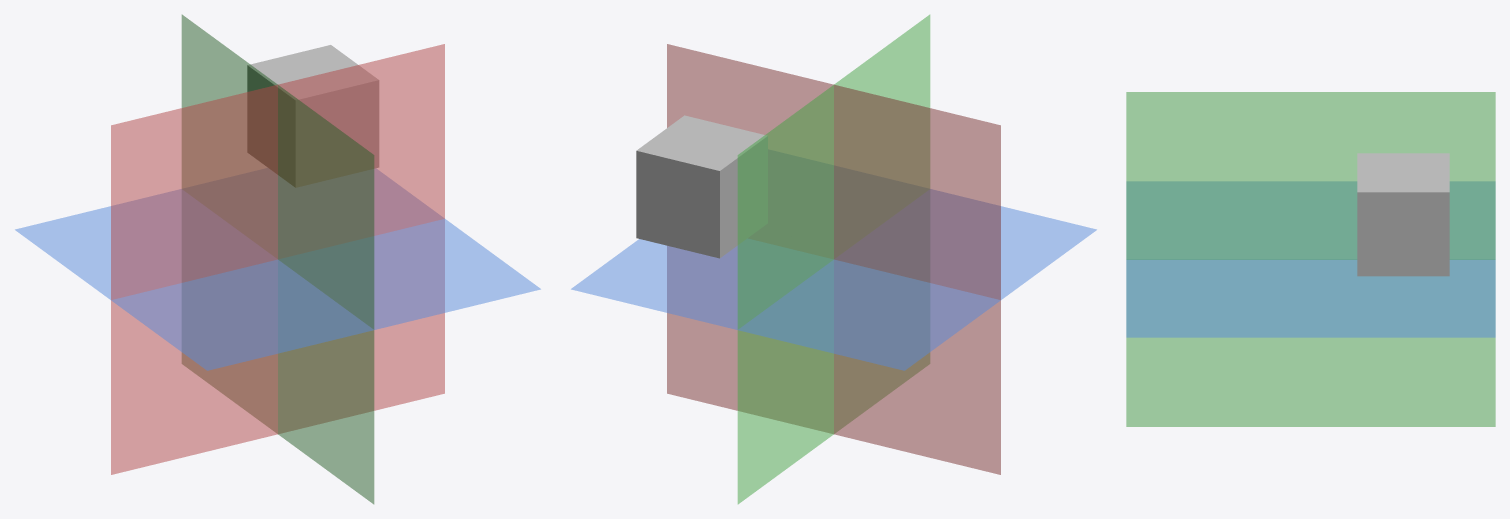
File: transparency.glb
3 views of the same model, side by side, from view 1: azimuth 30°, elevation 25°; view 2: azimuth 150°, elevation 25°; view 3: azimuth 270°, elevation 25° (orthographic). The views are drawn at different scales.
Visible parts, largest first — view 1: red_plane, green_plane, blue_plane, box; view 2: red_plane, green_plane, blue_plane, box; view 3: green_plane, blue_plane, box.
Part boxes in pixels (<box>): red_plane: <box>111,44,444,474</box>; green_plane: <box>181,14,374,504</box>; blue_plane: <box>15,169,540,370</box>; box: <box>247,45,379,187</box>; red_plane: <box>667,44,1000,474</box>; green_plane: <box>737,14,930,504</box>; blue_plane: <box>571,189,1096,370</box>; box: <box>636,115,767,258</box>; green_plane: <box>1126,92,1495,426</box>; blue_plane: <box>1126,181,1495,337</box>; box: <box>1357,153,1449,276</box>.
Size of the model in its own units: 0.04 by 0.04 by 0.04.
